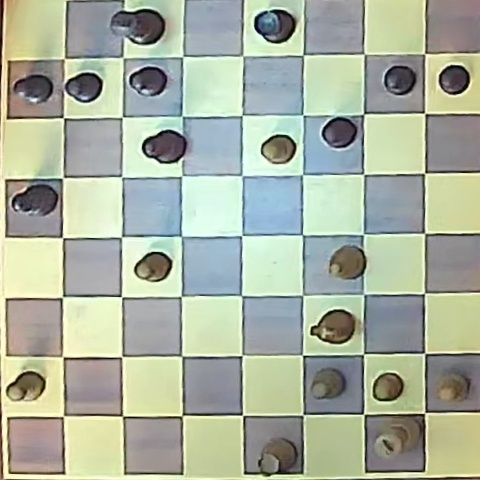black-bishop: (12, 184, 58, 217), (142, 130, 185, 163)
black-king: (111, 8, 164, 45)
black-pawn: (13, 74, 54, 104), (65, 71, 103, 102), (128, 66, 167, 96), (322, 117, 357, 148), (384, 65, 416, 95), (438, 64, 470, 94)
black-rook: (254, 9, 294, 43)
white-bishop: (328, 245, 366, 280)
white-king: (373, 417, 422, 460)
white-knight: (311, 310, 355, 345)
white-pawn: (6, 371, 45, 402), (134, 252, 172, 282), (310, 368, 343, 399), (261, 135, 296, 164), (436, 373, 469, 402), (372, 373, 404, 402)
white-rook: (259, 438, 296, 475)
